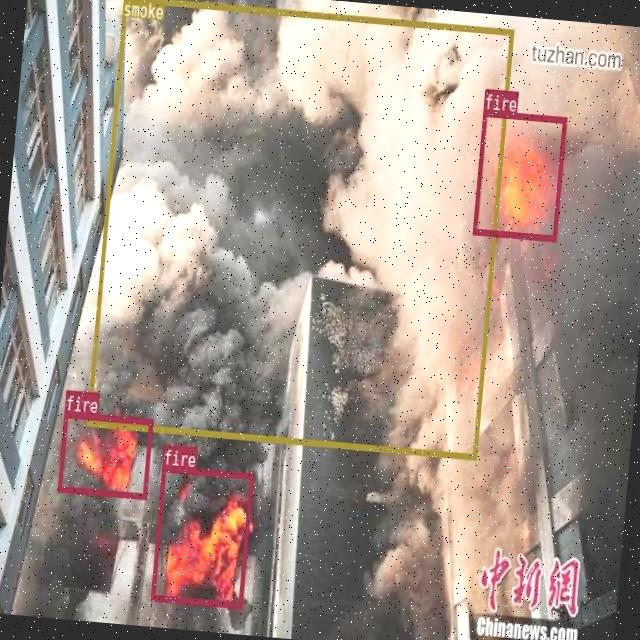fire: (150, 464, 252, 607), (471, 107, 566, 240), (56, 410, 152, 497)
smoke: (85, 0, 513, 458)
